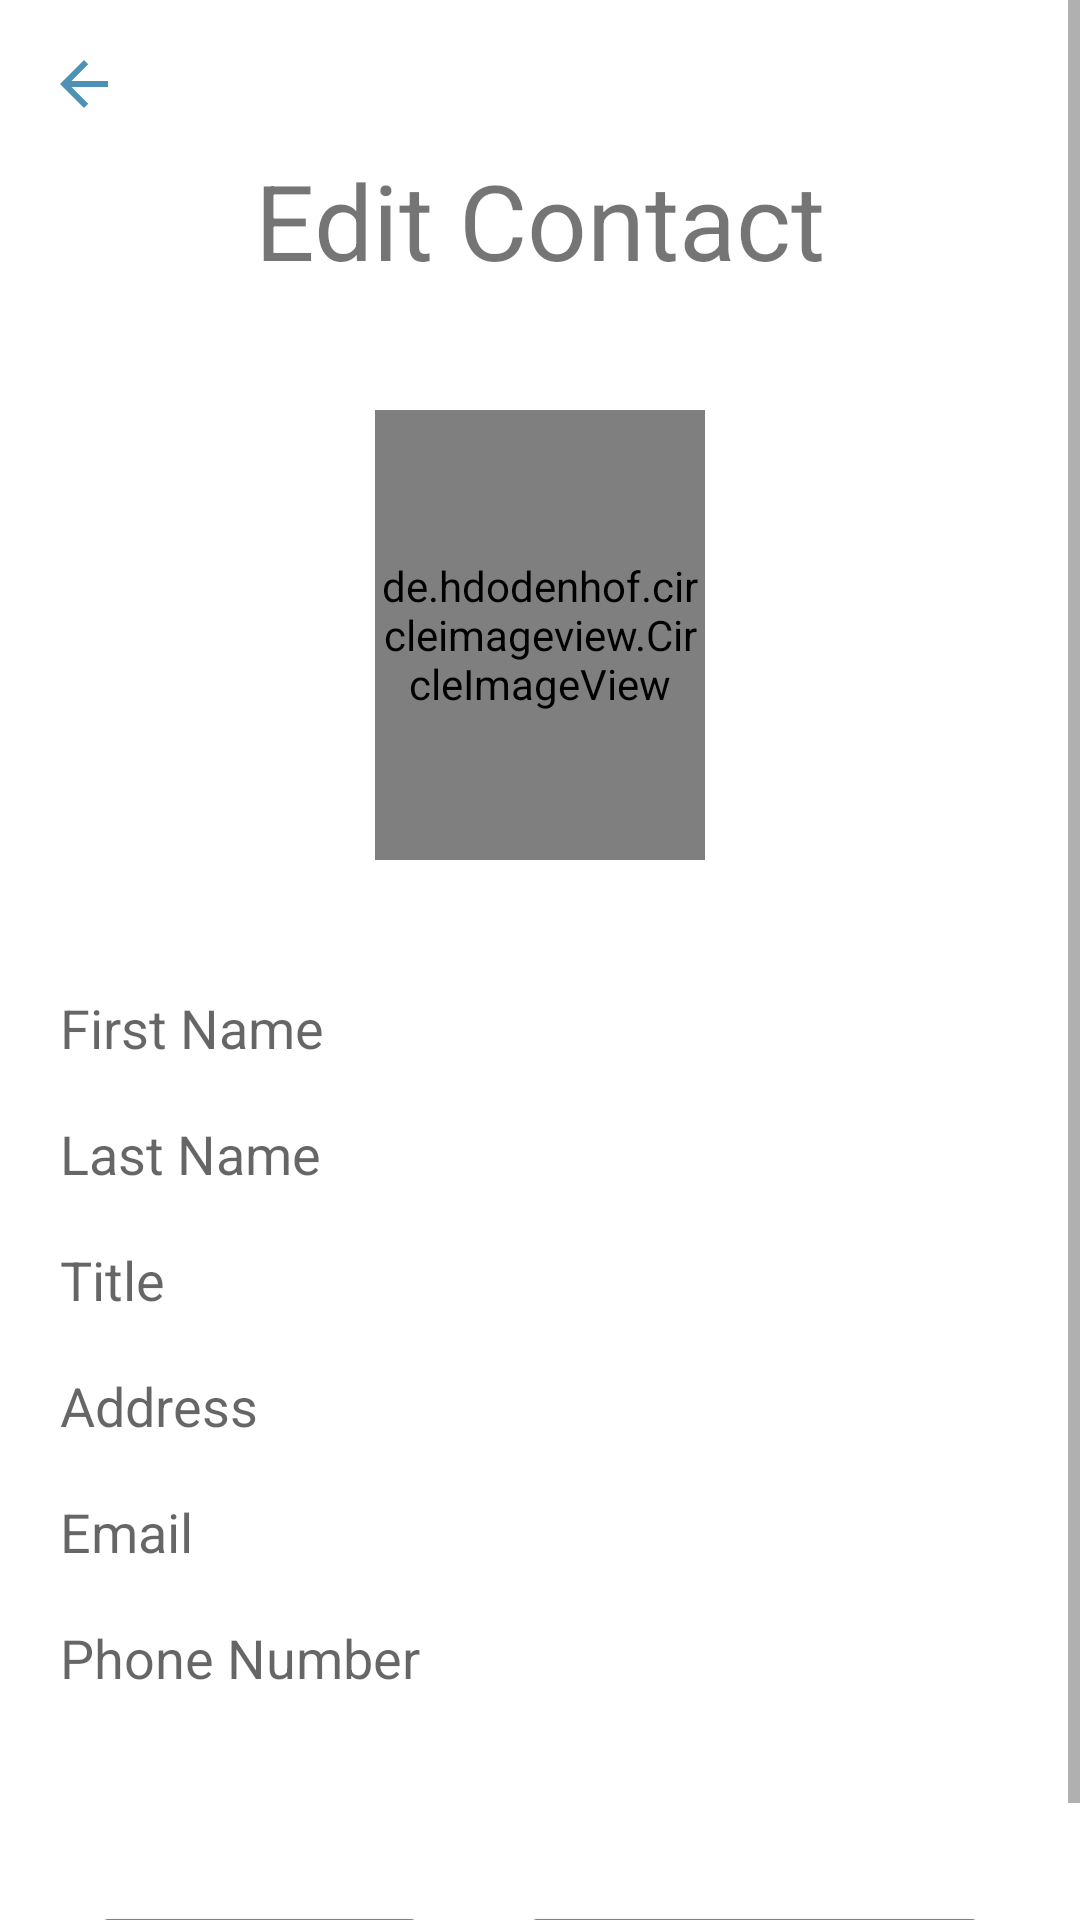

Where to tap for icons on this 1080px x 1920px app screen, as [x,y]:
Return to previous page: [84,84]
